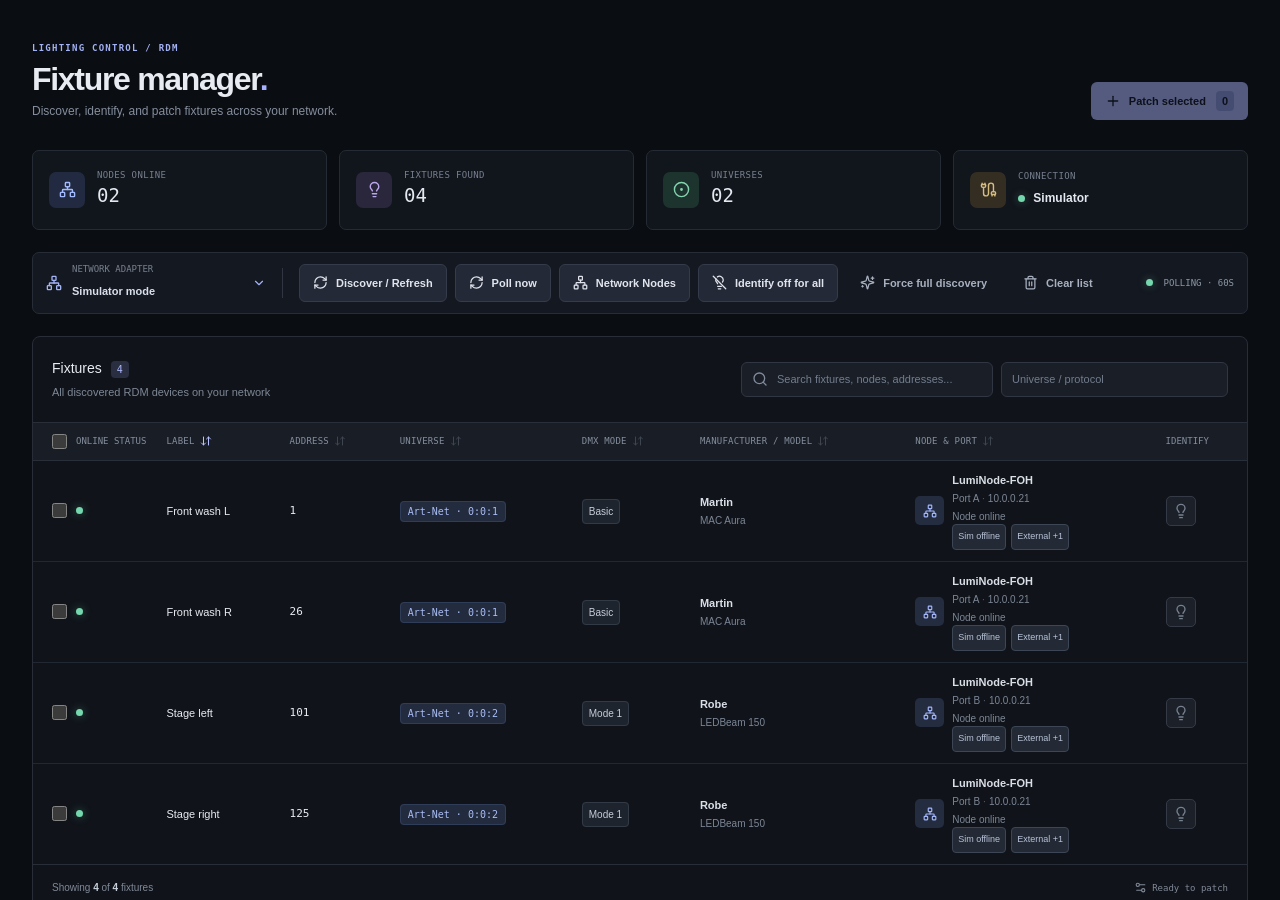
preserves selected rows on right click, opens Patch, and replaces selection for another row
Step 1. Click the row that starts with "Front wash L" → (640, 511), box [33, 460, 1247, 561]
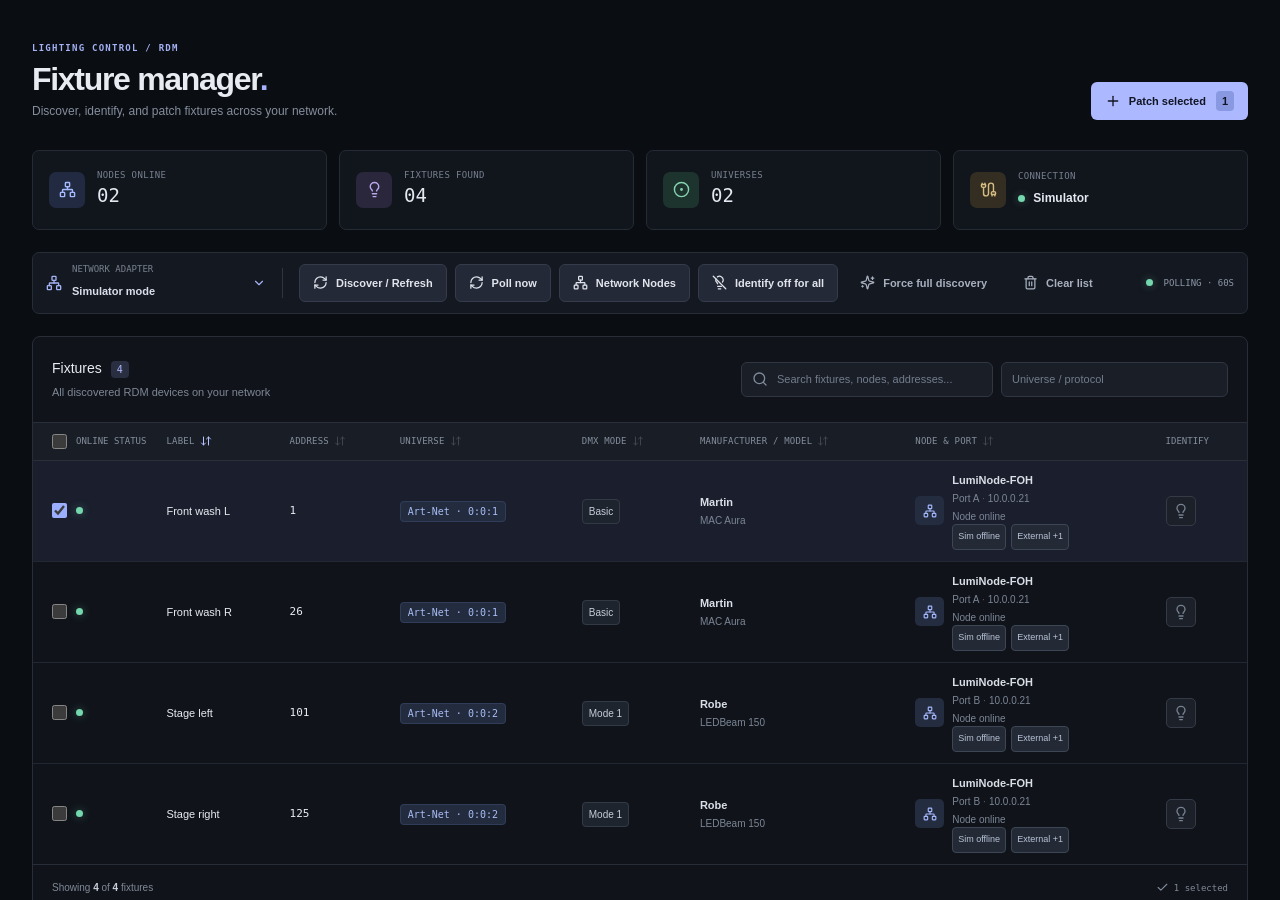
Step 2. Click the row that starts with "Front wash R" → (640, 612), box [33, 561, 1247, 662]
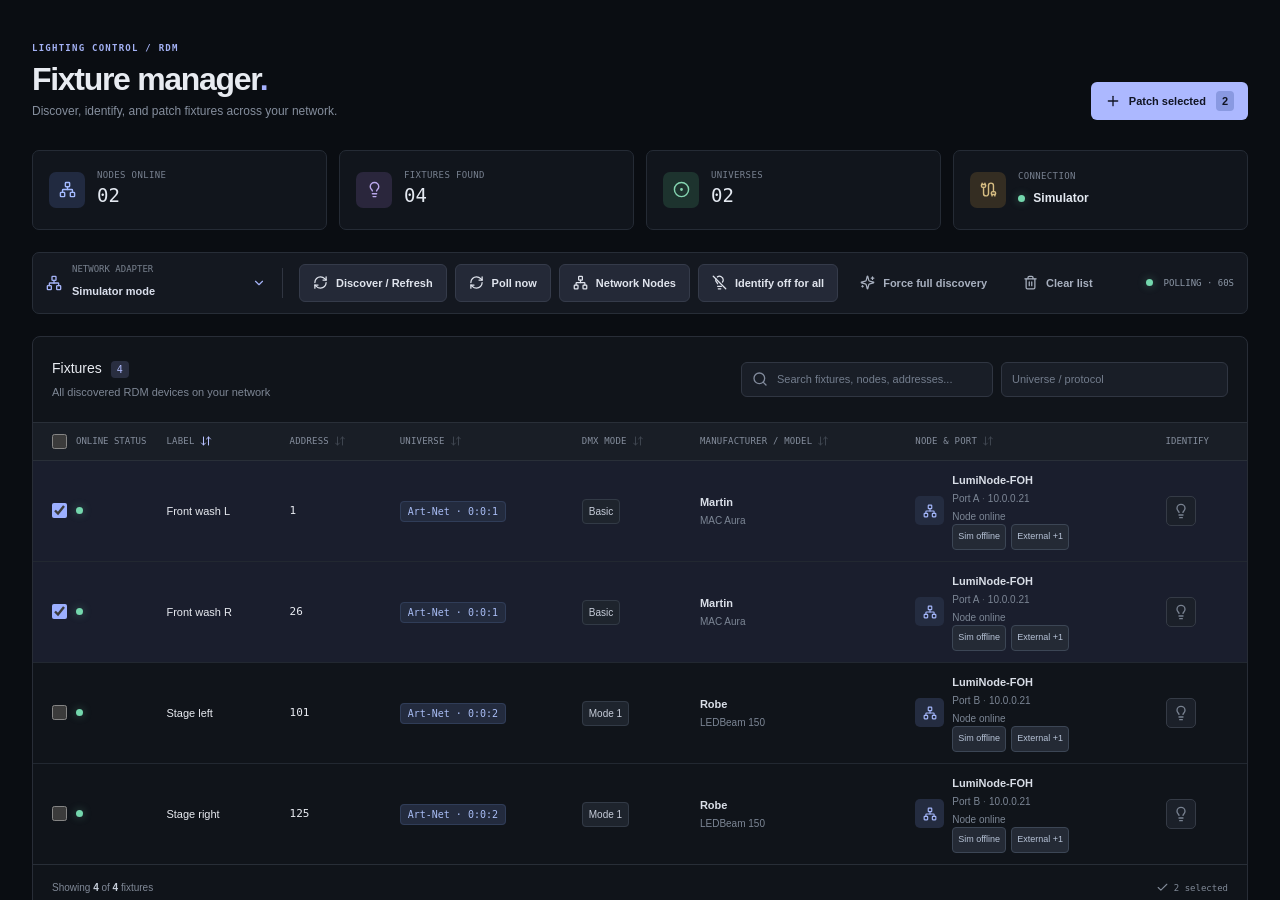
Step 3. Right-click the row that starts with "Front wash R" → (640, 612), box [33, 561, 1247, 662]
Step 4. Right-click the row that starts with "Stage left" → (640, 713), box [33, 662, 1247, 763]
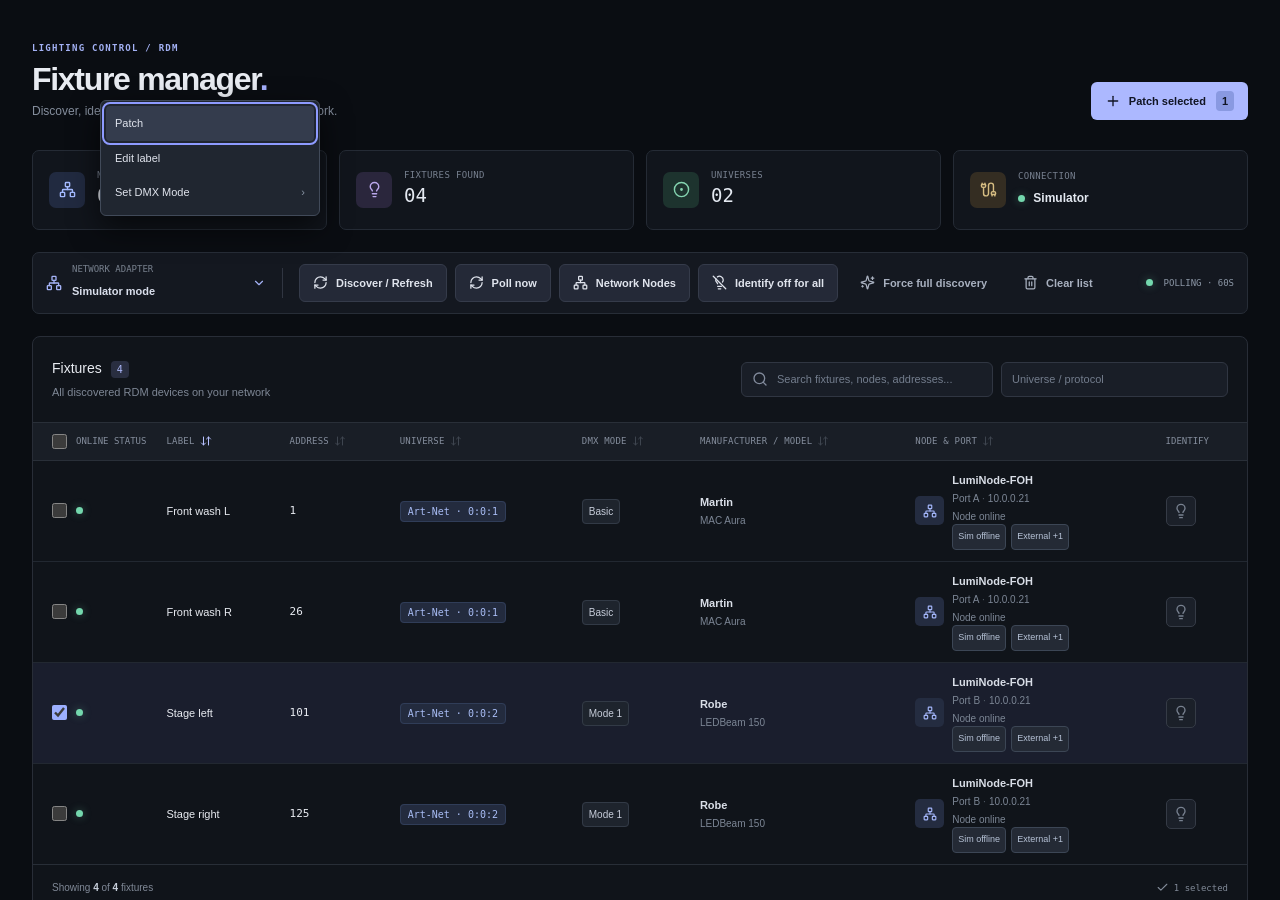
Step 5. Click the menu item "Patch" → (210, 123), box [106, 106, 314, 140]
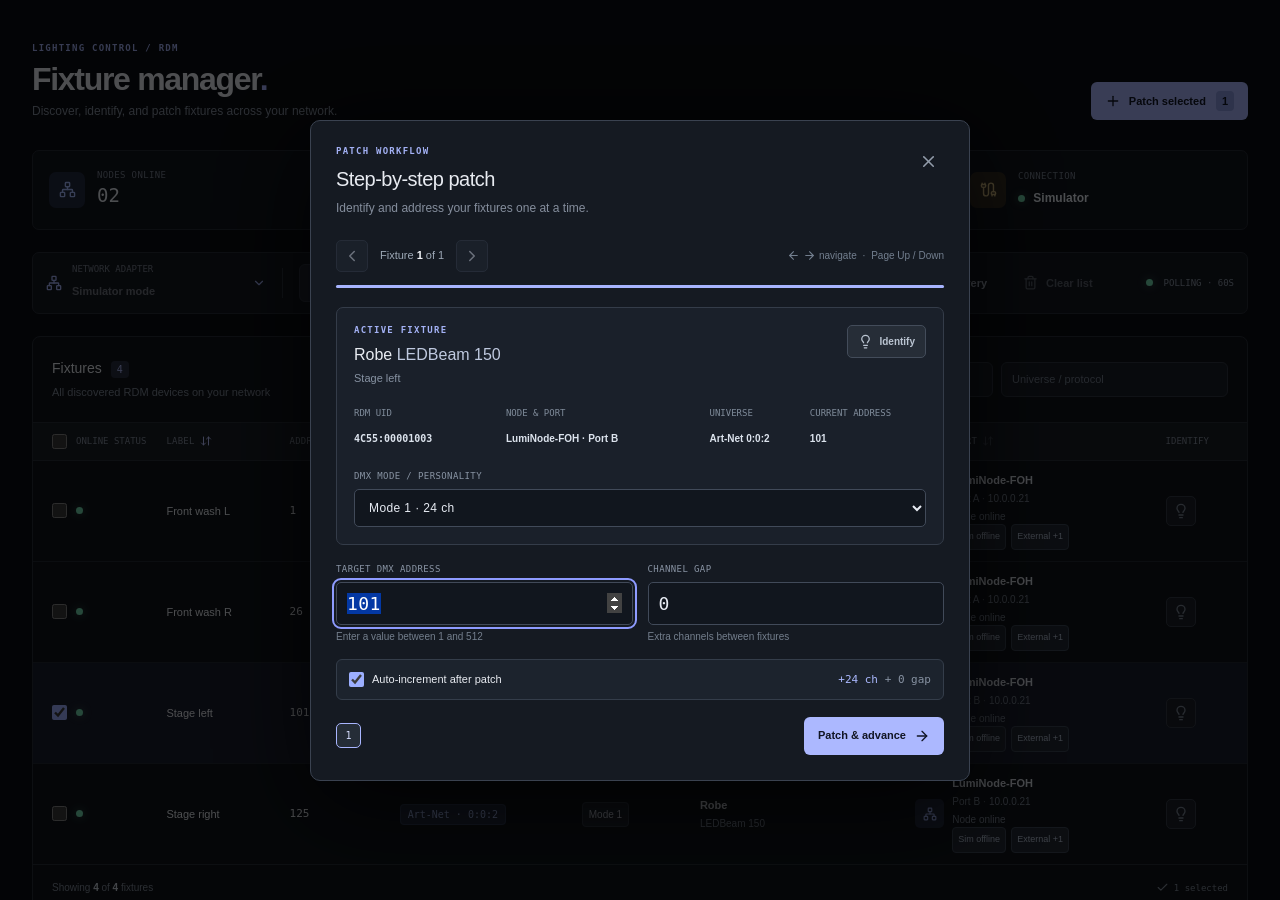
Now the dialog shows "Step-by-step patch", box [336, 168, 495, 190]
